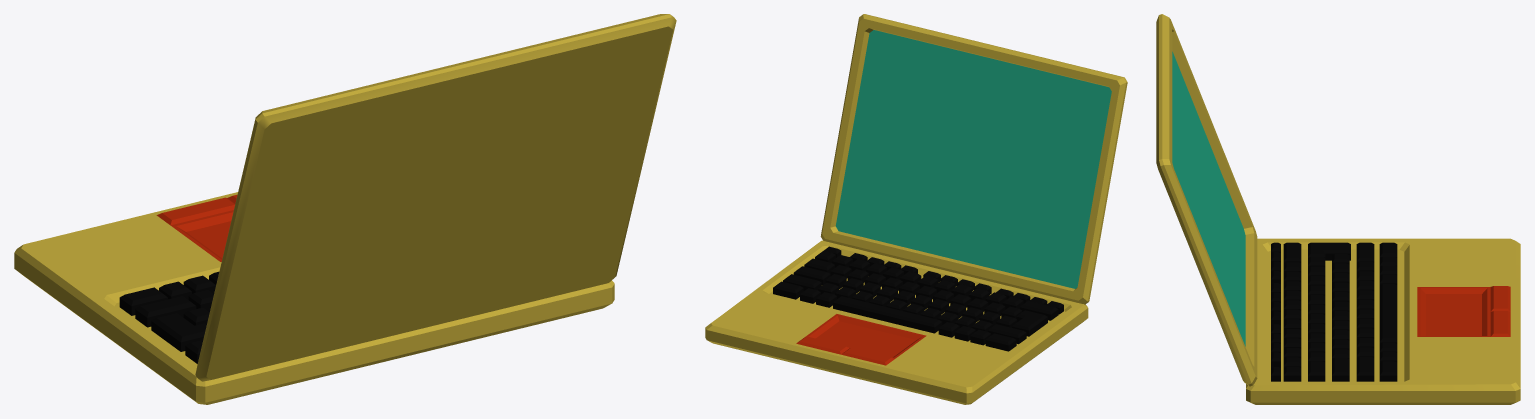
The model's file is Laptop.FBX.
3 renders of one model, left to right at view 1: azimuth 30°, elevation 25°; view 2: azimuth 150°, elevation 25°; view 3: azimuth 270°, elevation 25°, orthographic. The views are drawn at different scales.
Visible parts, largest first — view 1: Laptop; view 2: Laptop; view 3: Laptop.
Part boxes in pixels (<box>): Laptop: <box>14,14,676,404</box>; Laptop: <box>705,14,1127,404</box>; Laptop: <box>1156,14,1520,404</box>.
Size of the model in its own units: 988 by 1020 by 761.
